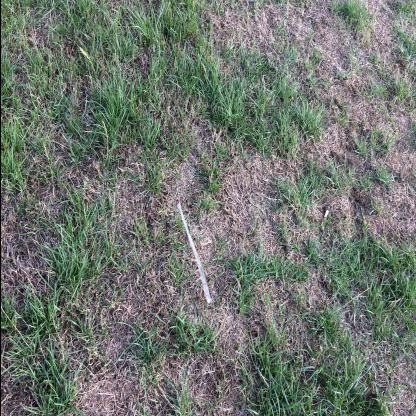plastik: (177, 203, 211, 305)
